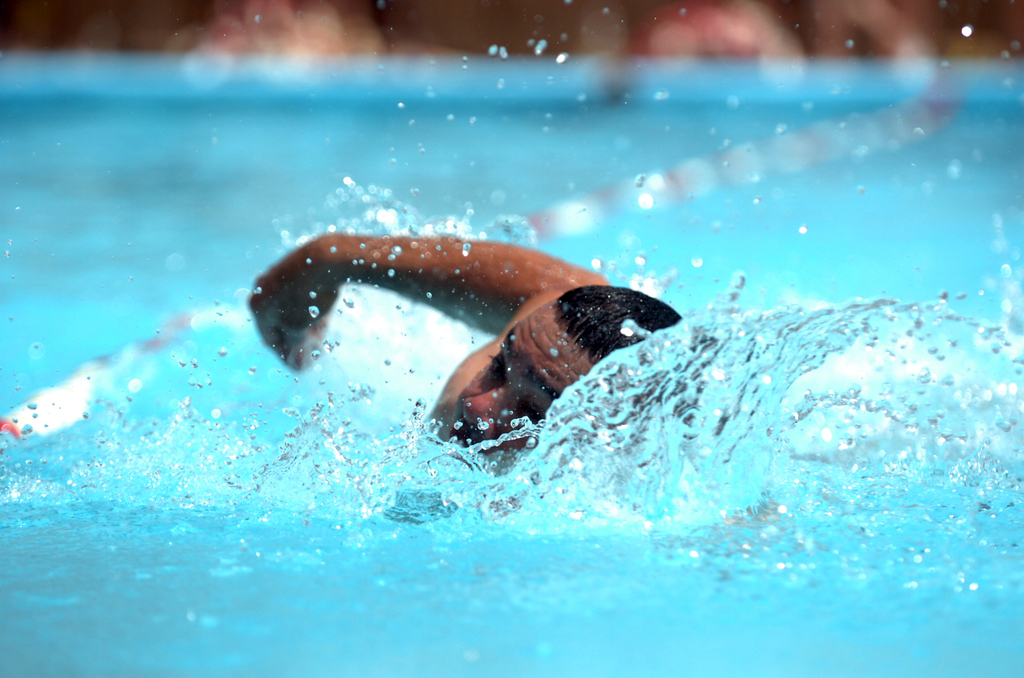Person: (248, 233, 685, 453)
